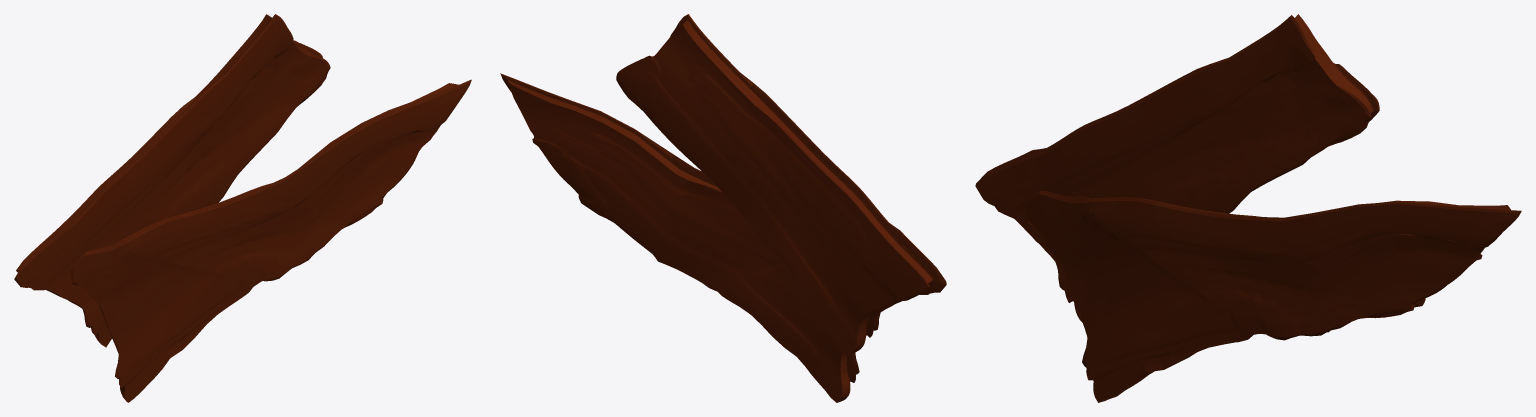
The model's file is CortezaMadera.fbx.
3 renders of one model, left to right at view 1: azimuth 30°, elevation 25°; view 2: azimuth 150°, elevation 25°; view 3: azimuth 330°, elevation 25°, orthographic. The views are drawn at different scales.
Visible parts, largest first — view 1: Cube; view 2: Cube; view 3: Cube.
Boxes of the visible parts, x1=… form: Cube: x1=14, y1=14, x2=471, y2=402; Cube: x1=500, y1=14, x2=946, y2=402; Cube: x1=975, y1=14, x2=1521, y2=402.
Size of the model in its own units: 445 by 330 by 37.94.
